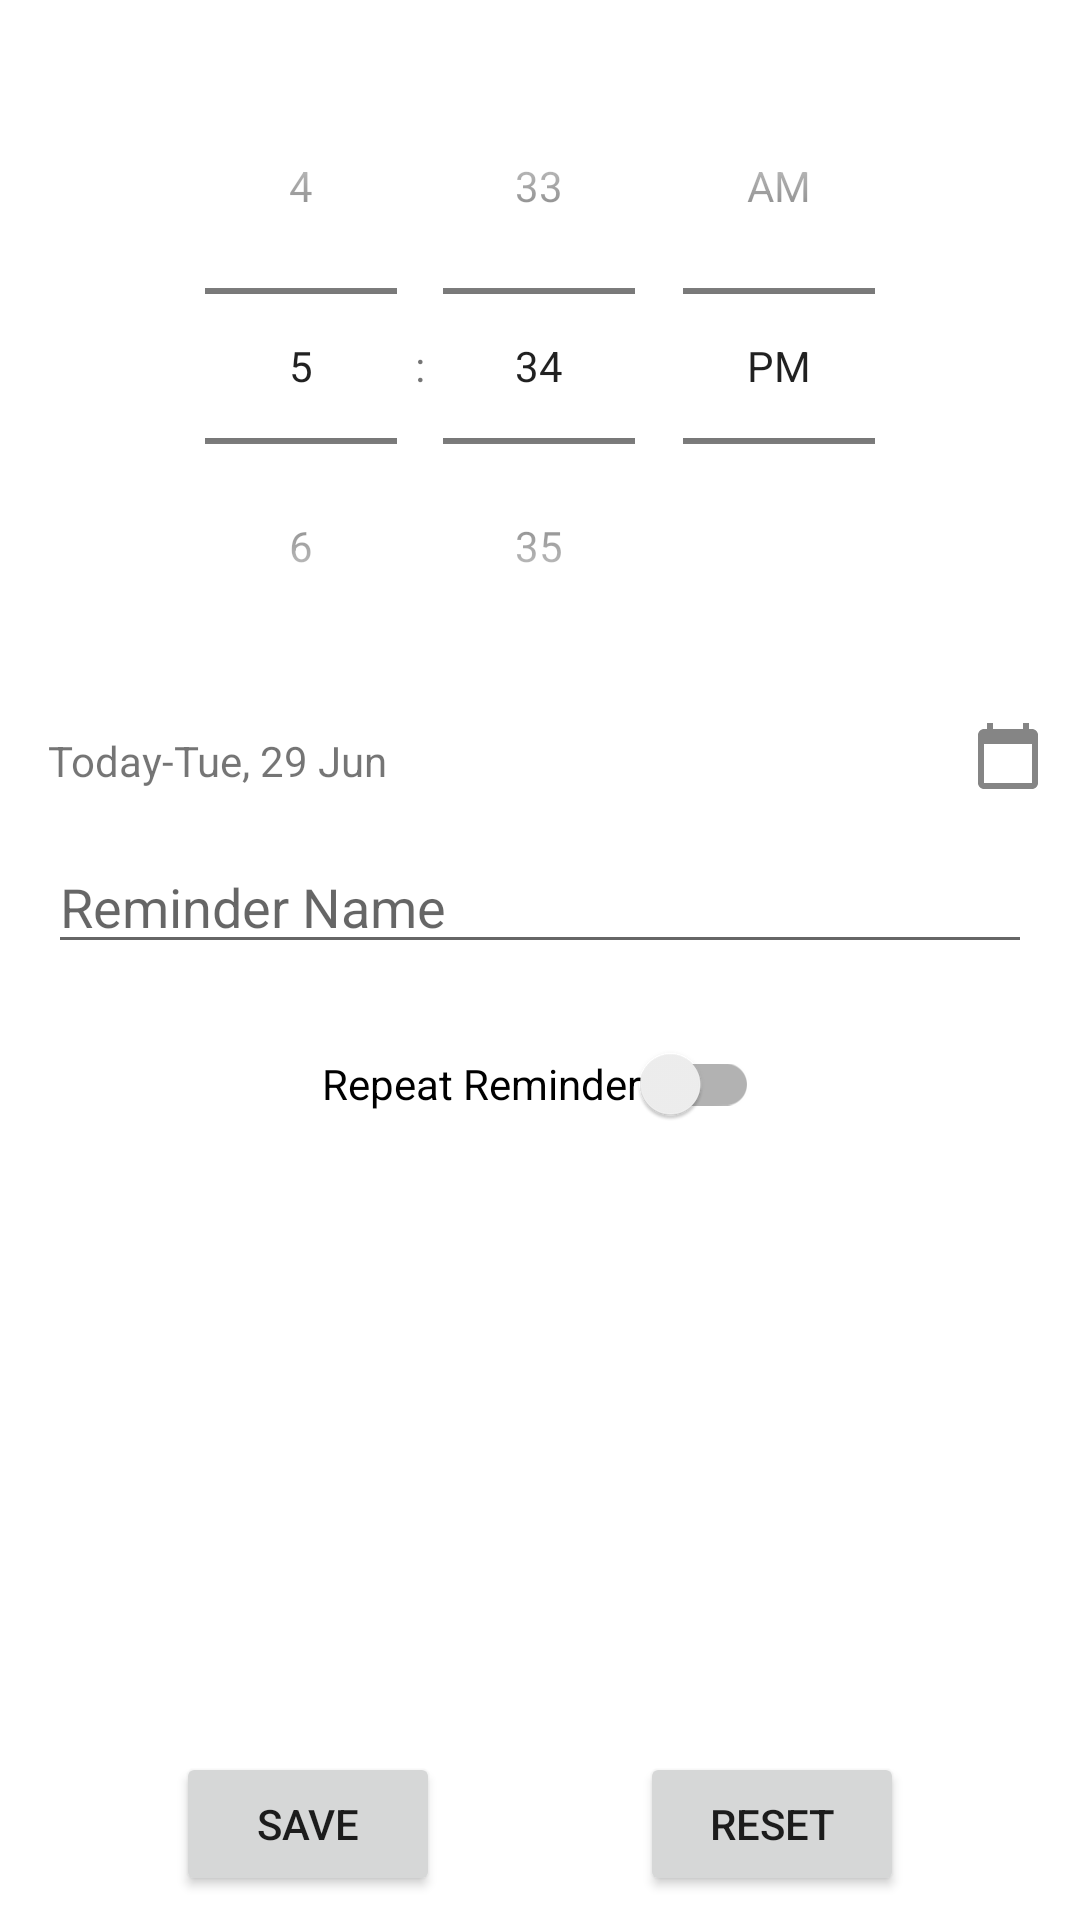

Where to tap for icons on this 1080×1920 app screen, as point (x, y):
calendar: point (1008, 756)
